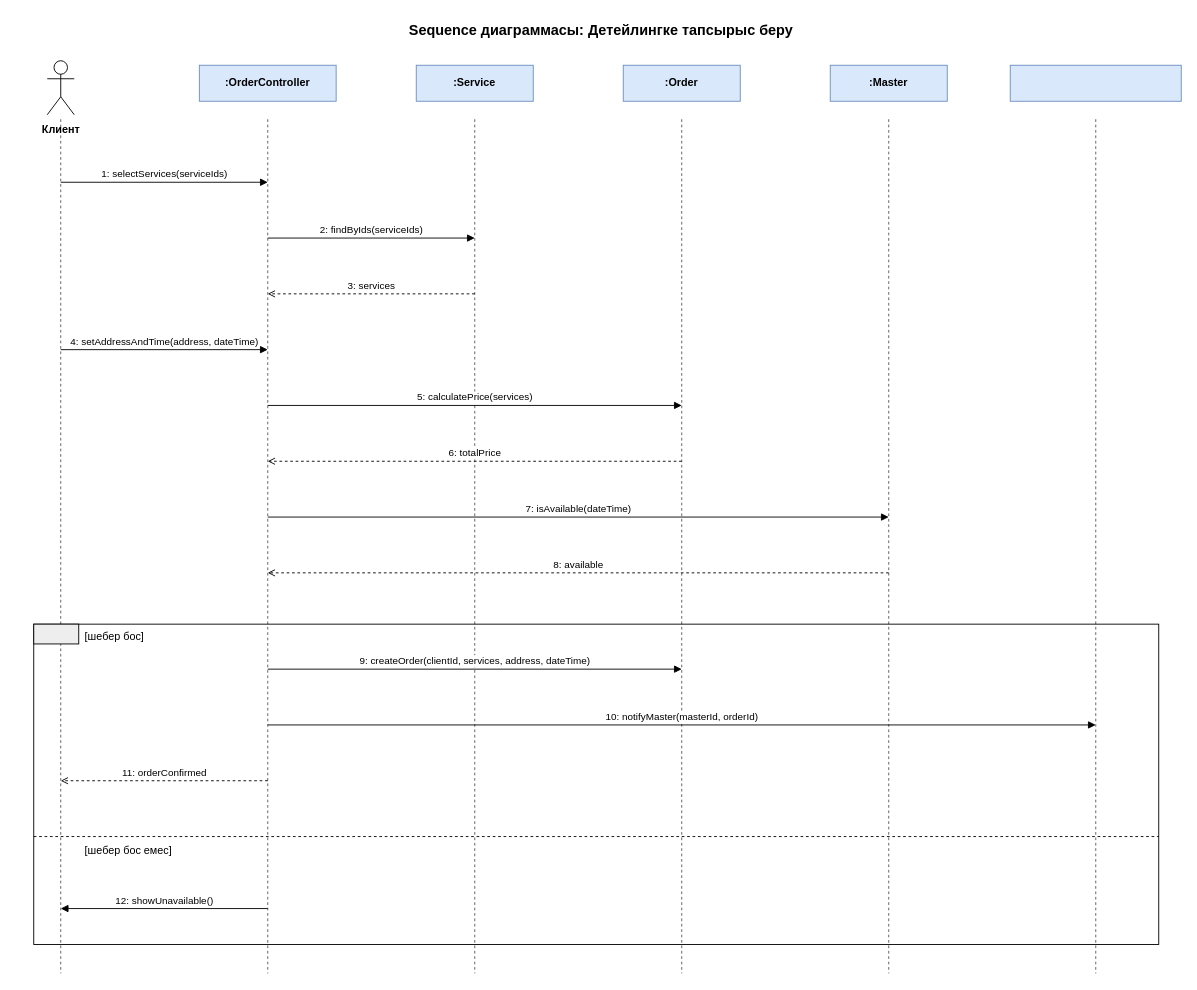
This 1197x990 diagram has some shape labels left out. Here are the shapes that lost their labels. From the top down, the centre of each, then its label:
At (1095,82): ":NotificationService".
At (56,633): "alt".
